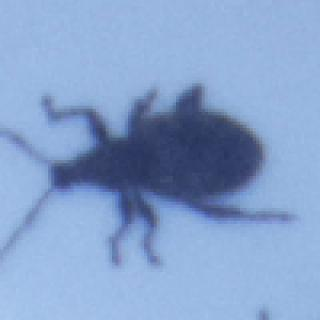bvw: (0, 84, 298, 265)
